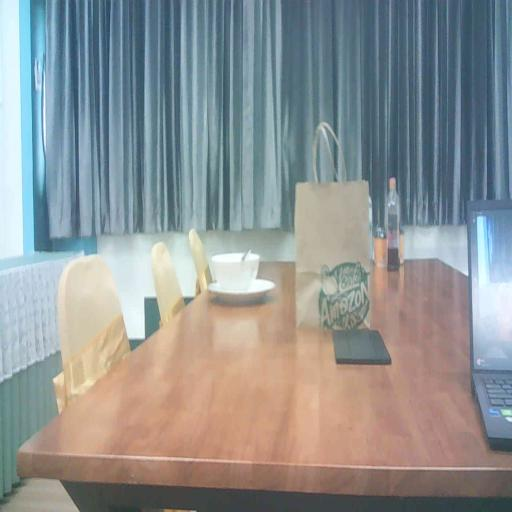bag: (294, 178, 374, 338)
